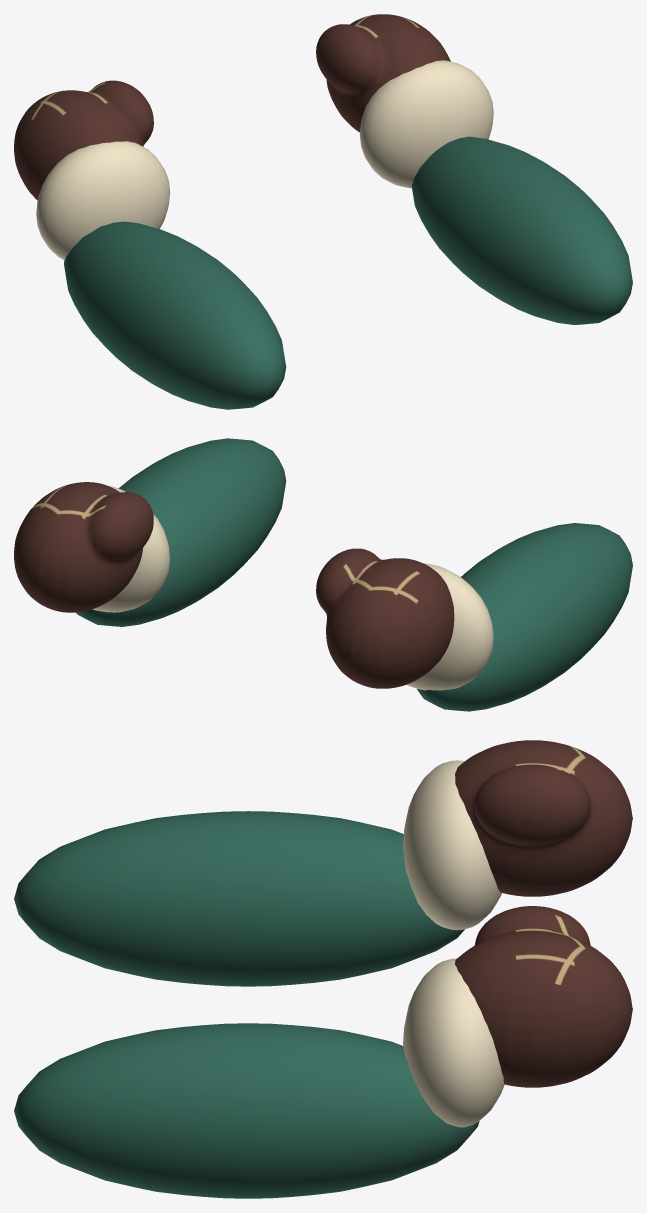
Rendered from first_person_arms.glb.
The picture shows the model from 3 angles, top to bottom: view 1: azimuth 30°, elevation 25°; view 2: azimuth 150°, elevation 25°; view 3: azimuth 270°, elevation 25°; orthographic projection. The views are drawn at different scales.
Visible parts, largest first — view 1: Crew Coat, Crew Wool, Crew Leather; view 2: Crew Coat, Crew Leather, Crew Wool; view 3: Crew Coat, Crew Leather, Crew Wool.
Part boxes in pixels (x1=…): Crew Coat: x1=64, y1=136, x2=632, y2=409; Crew Wool: x1=36, y1=60, x2=493, y2=259; Crew Leather: x1=14, y1=14, x2=450, y2=200; Crew Coat: x1=76, y1=438, x2=632, y2=711; Crew Leather: x1=14, y1=482, x2=454, y2=688; Crew Wool: x1=92, y1=485, x2=493, y2=690; Crew Coat: x1=14, y1=811, x2=479, y2=1198; Crew Leather: x1=455, y1=740, x2=632, y2=1087; Crew Wool: x1=403, y1=760, x2=504, y2=1127.
Bounding box in the file's own units: 0.81 × 0.325 × 0.7399.
3 materials, 3 textured.
